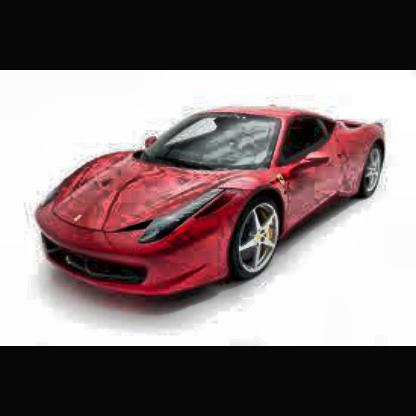Ferrari 458 Italia Coupe 2012: (37, 106, 387, 301)
